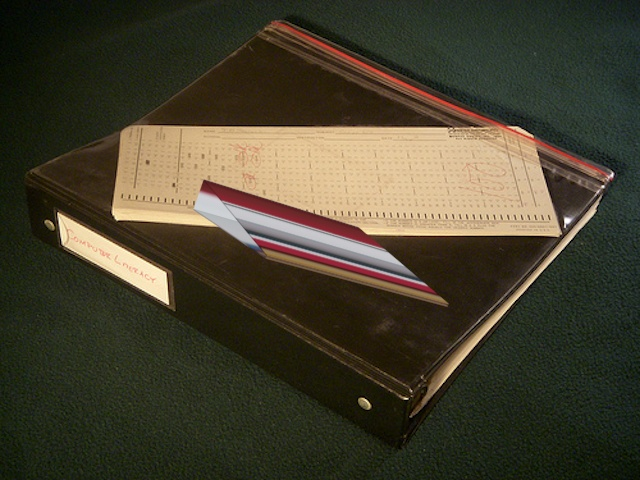ring_binder: (192, 176, 456, 320)
